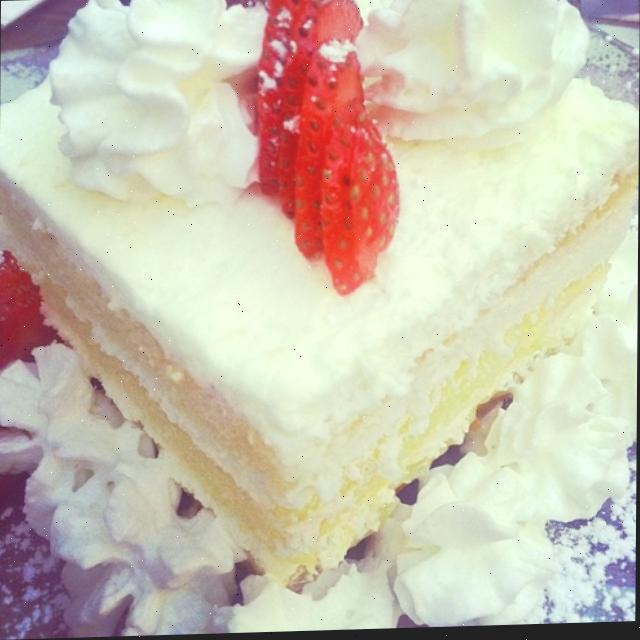蛋糕甜品: (13, 0, 634, 596)
